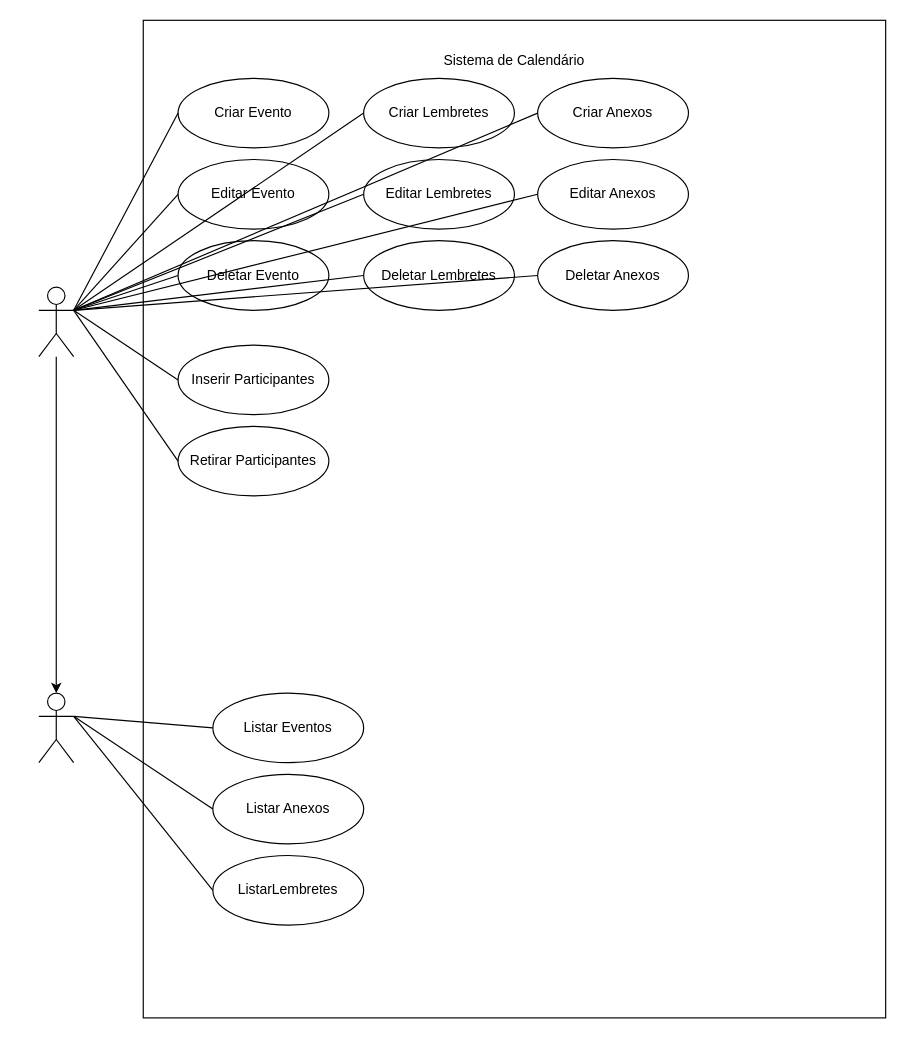
Some shapes in this 906 by 1038 pixel diagram are drawn without their labels. The shapes that lost their labels are listed below. From the top down, each one's centre as x and y in pixels, then its label:
the point at 56,321: Usuário
the point at 56,727: Participante
